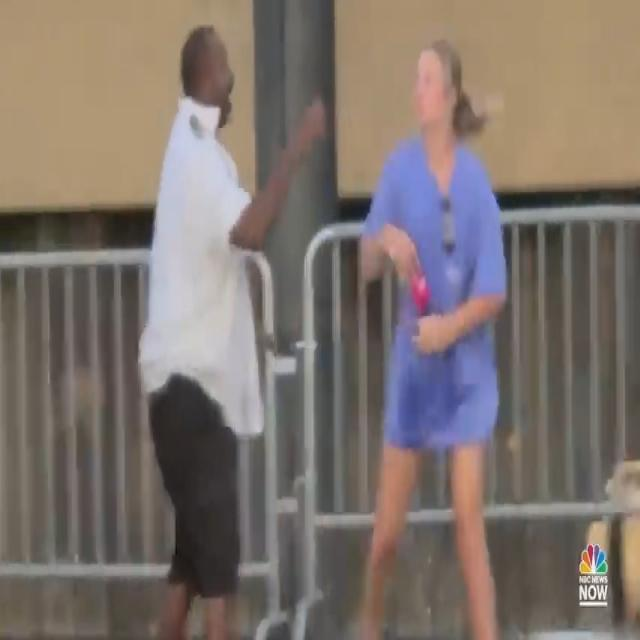non-fight: (138, 14, 508, 640)
